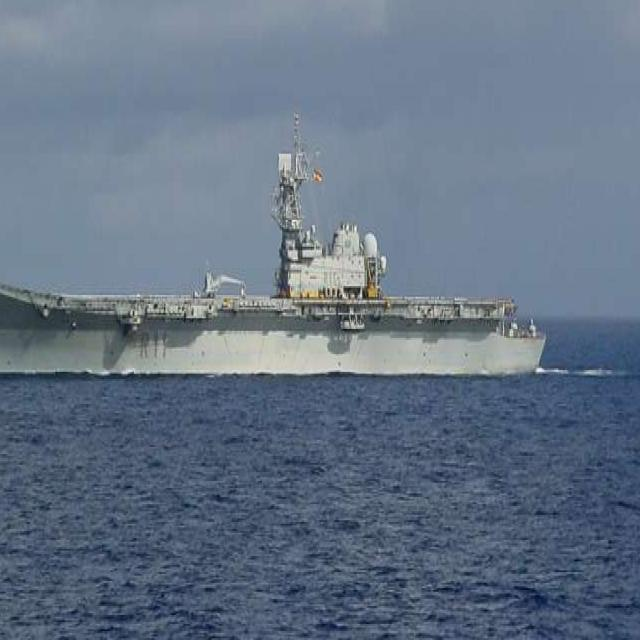Portanaves: (1, 105, 549, 387)
